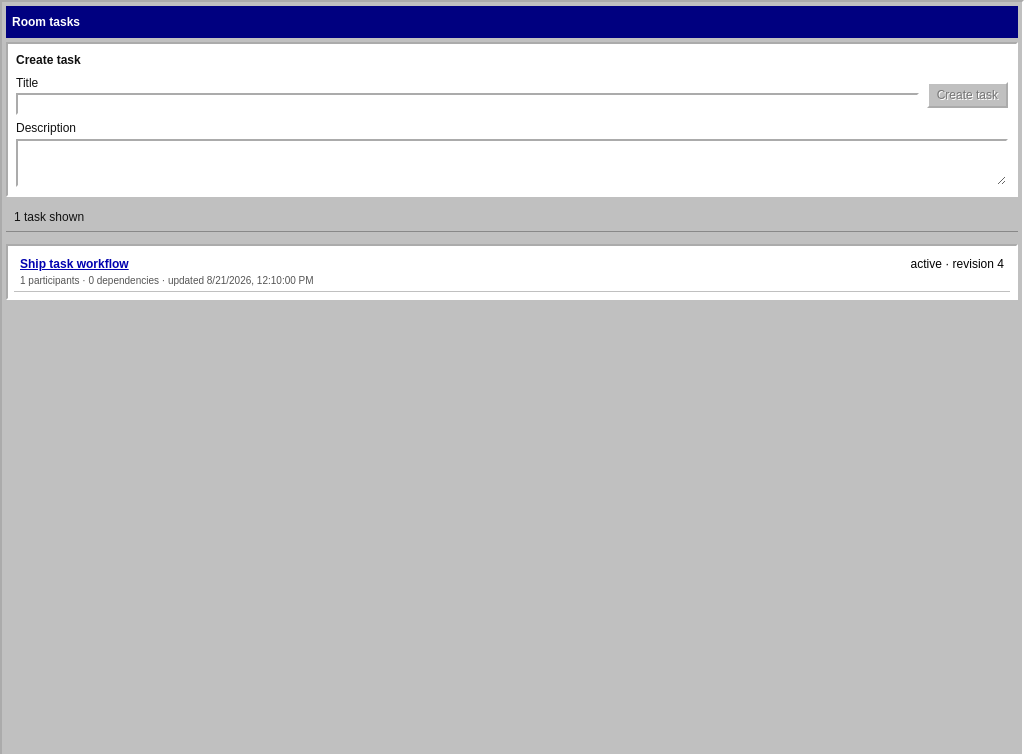
Test: room task interface › starts a governed continuation from an exact assignment reference
Click the button "Ship task workflow".
click(74, 264)  # box [14,252,1010,292]
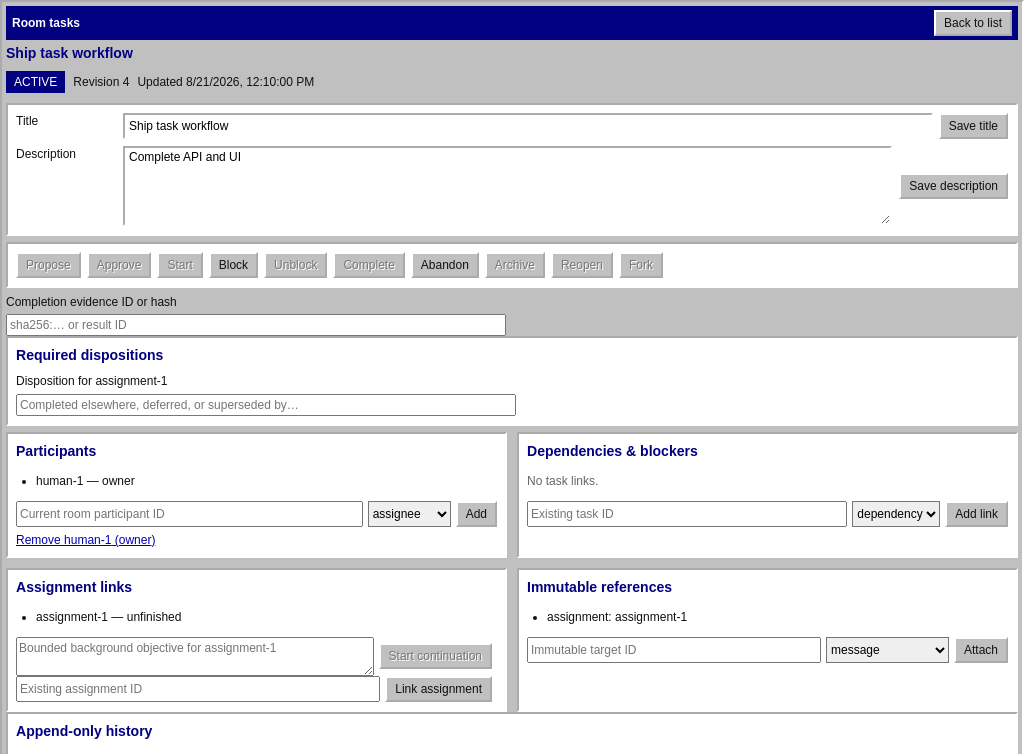
Type "Run the remaining checks" into the text box named "Continuation objective for assignment-1".
click(195, 656); type("Run the remaining checks")  # box [16,637,374,676]
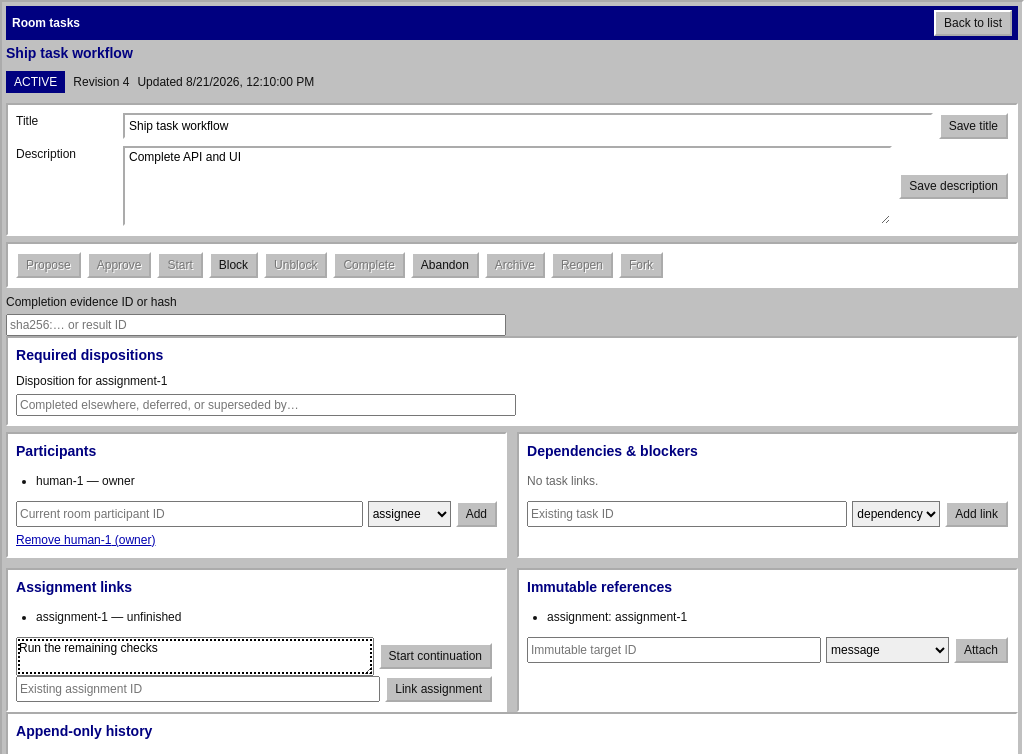
Click the button "Start continuation".
click(435, 656)  # box [379,643,492,669]
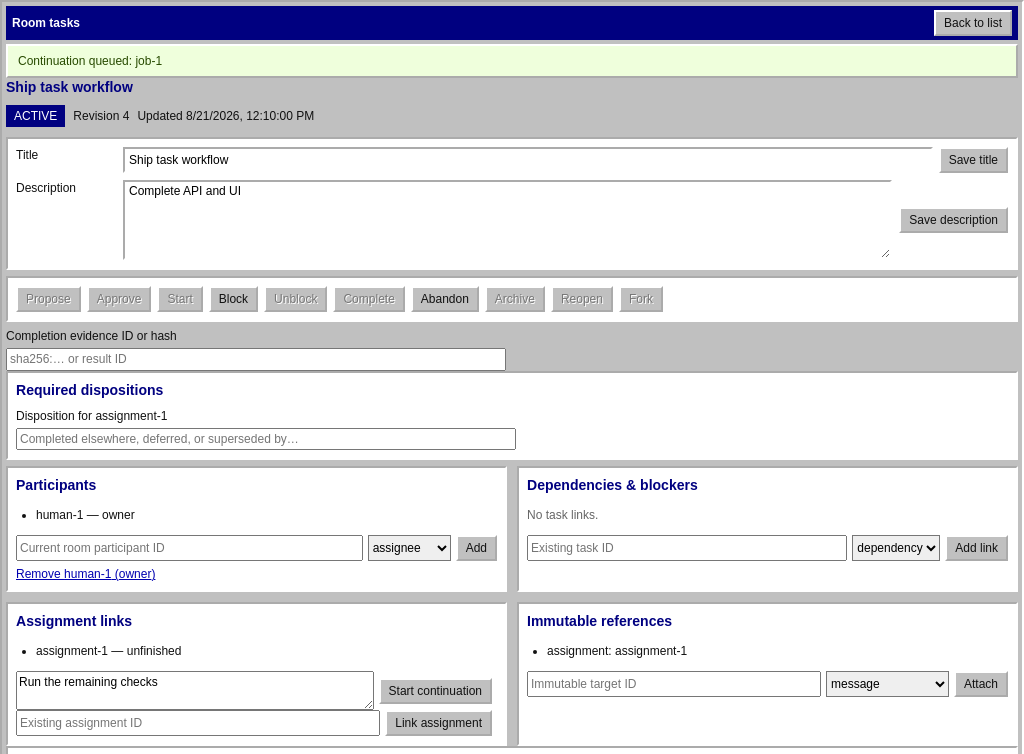
Expected: the text "Continuation queued: job-1" is shown, [6,44,1018,78]
